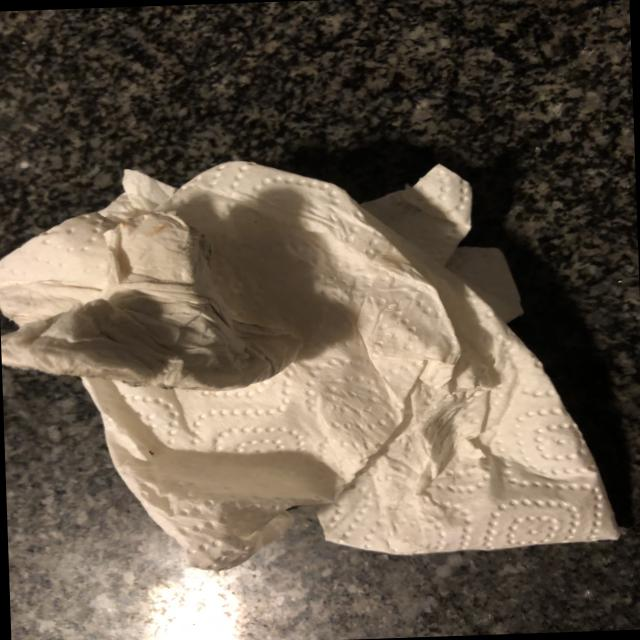organic waste: (0, 140, 621, 577)
